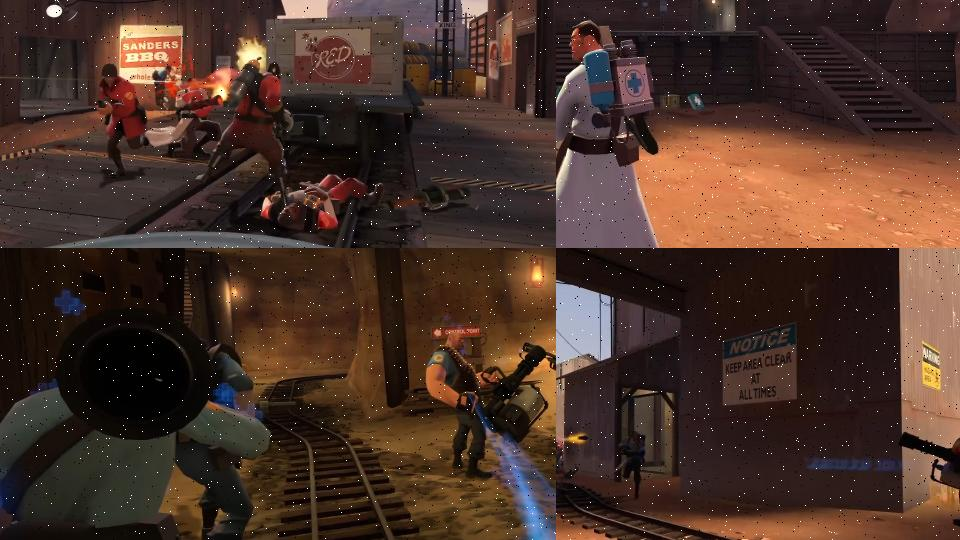Enemy: (0, 312, 269, 540), (556, 17, 679, 248), (425, 331, 548, 480), (194, 56, 295, 209), (898, 390, 960, 540), (260, 174, 385, 234), (144, 76, 224, 160), (94, 63, 151, 180), (523, 330, 556, 449), (612, 430, 647, 499), (152, 65, 175, 110)
